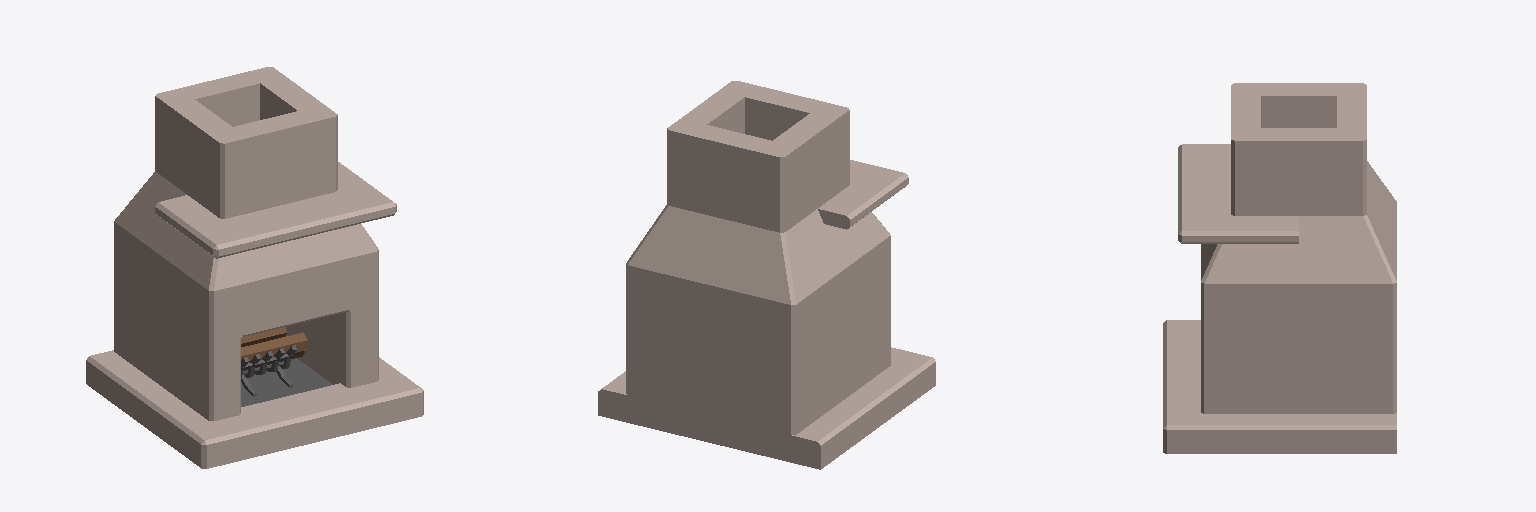
Rendered from Prop_Fireplace.obj.
3 renders of one model, left to right at view 1: azimuth 30°, elevation 25°; view 2: azimuth 150°, elevation 25°; view 3: azimuth 270°, elevation 25°, orthographic.
Visible parts, largest first — view 1: object4, object5, object3; view 2: object4; view 3: object4.
Boxes of the visible parts, x1=… form: object4: x1=86, y1=67, x2=423, y2=468; object5: x1=241, y1=345, x2=296, y2=396; object3: x1=241, y1=332, x2=307, y2=362; object4: x1=598, y1=81, x2=935, y2=469; object4: x1=1163, y1=83, x2=1396, y2=453.
Bounding box in the file's own units: 1.7 × 2.1 × 1.55.